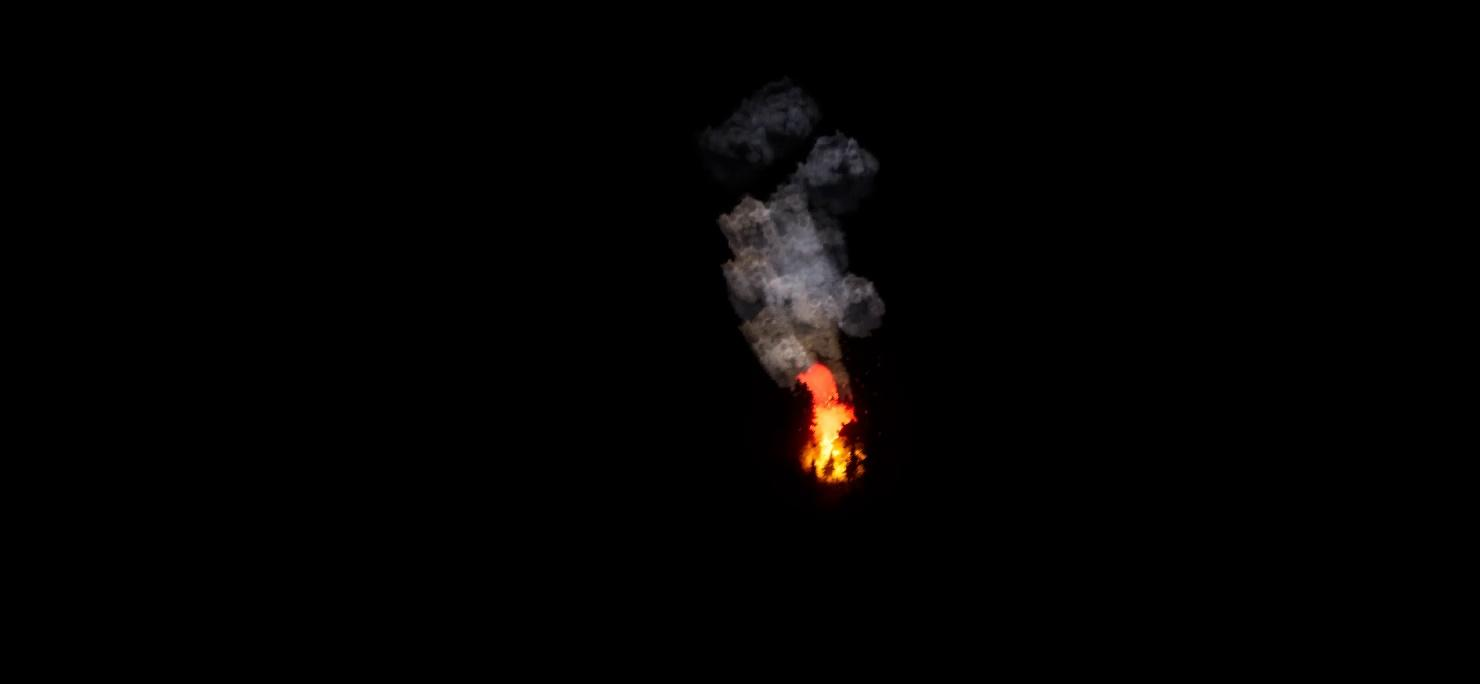fire: (800, 363, 862, 488)
smoke: (721, 88, 877, 373)
